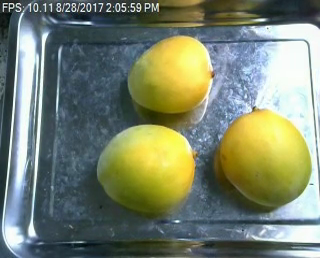Mango: (93, 121, 199, 214), (218, 111, 311, 208), (125, 30, 219, 114)
